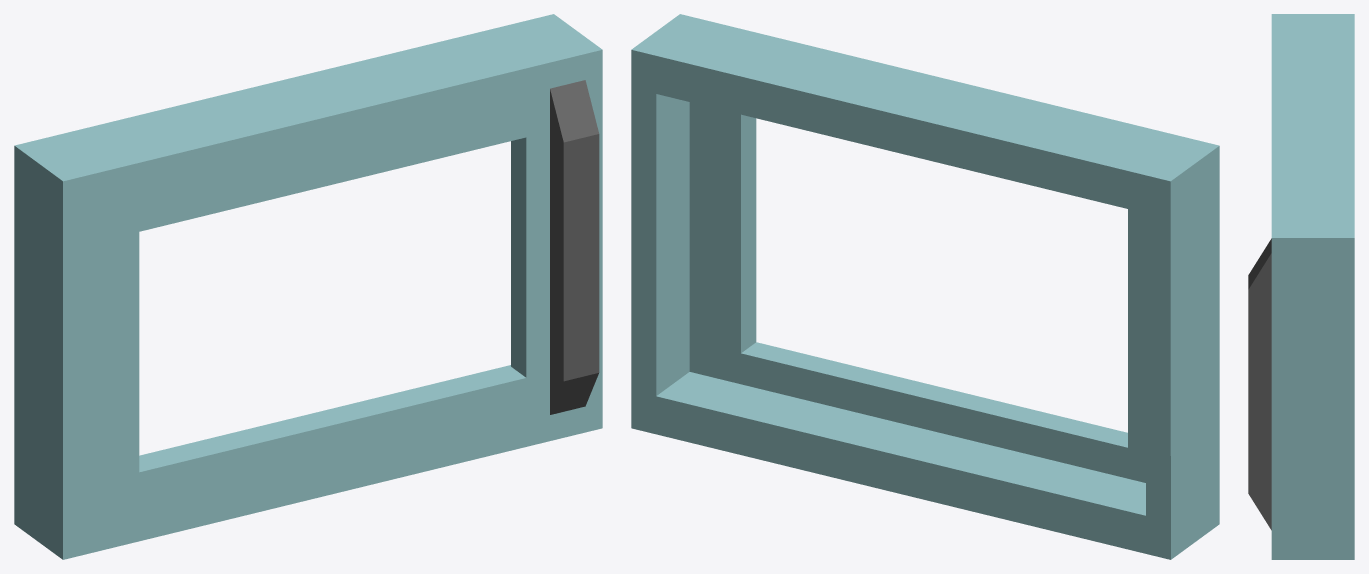
The model's file is Itr_Obj_Microwave_Door_06.FBX.
The picture shows the model from 3 angles, left to right: view 1: azimuth 30°, elevation 25°; view 2: azimuth 150°, elevation 25°; view 3: azimuth 270°, elevation 25°; orthographic projection. The views are drawn at different scales.
Parts seen in each view (by area): view 1: Itr_Obj_Microwave_Door_06; view 2: Itr_Obj_Microwave_Door_06; view 3: Itr_Obj_Microwave_Door_06.
Boxes of the visible parts, x1=… form: Itr_Obj_Microwave_Door_06: x1=14, y1=14, x2=602, y2=559; Itr_Obj_Microwave_Door_06: x1=631, y1=14, x2=1219, y2=559; Itr_Obj_Microwave_Door_06: x1=1248, y1=14, x2=1354, y2=559.
Bounding box in the file's own units: 21.27 × 14.26 × 4.28.
